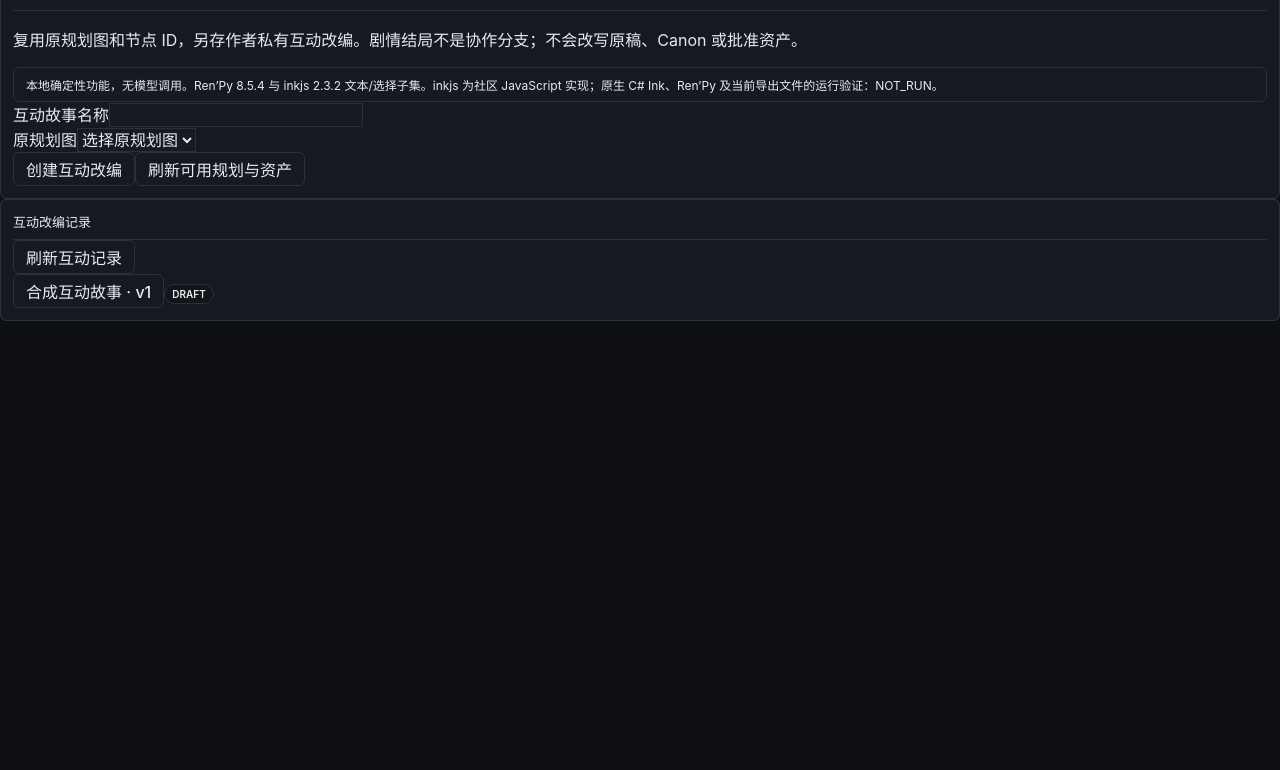
does not retarget a saved issue to a replacement choice with a reused ID before save
The width and height of the screenshot is (1280, 770).
Click the button "合成互动故事 · v1" at (89, 291), box [13,274,164,308]
(page scrolled)
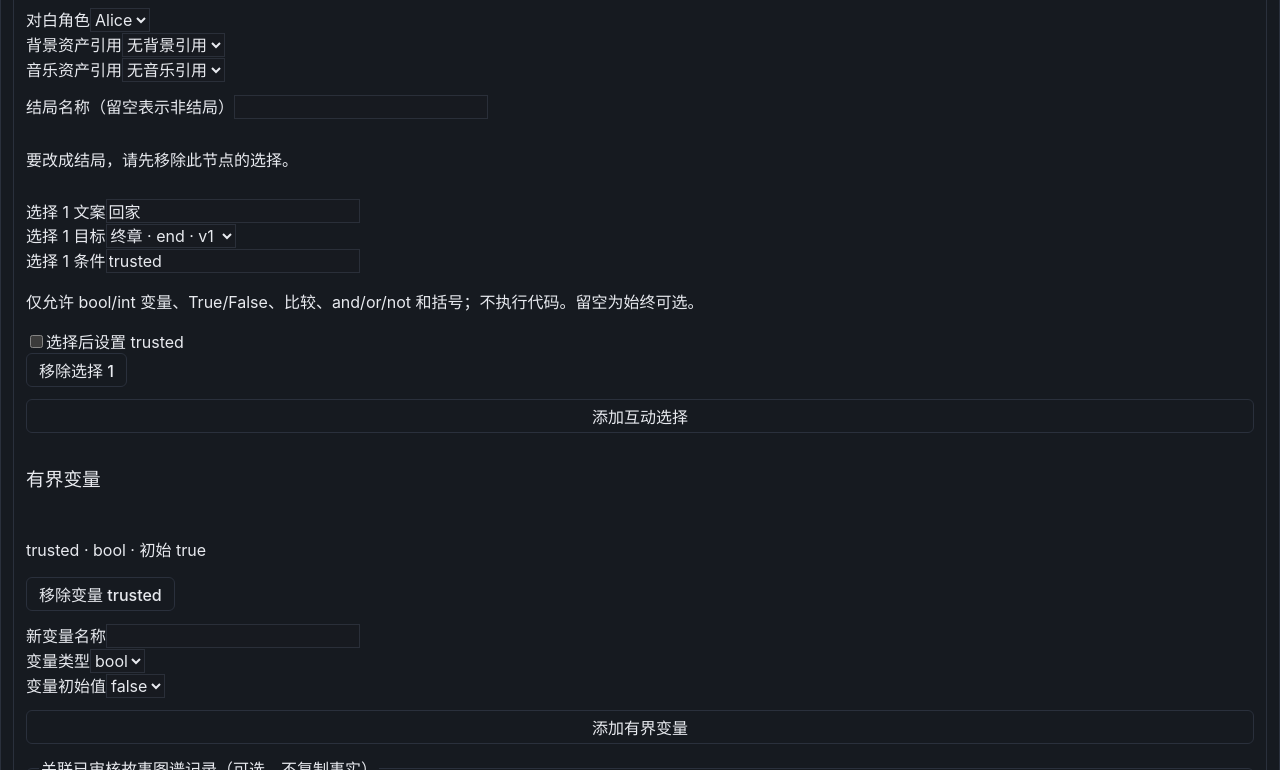
Click the button "移除选择 1" at (76, 370), box [26,353,127,387]
(page scrolled)
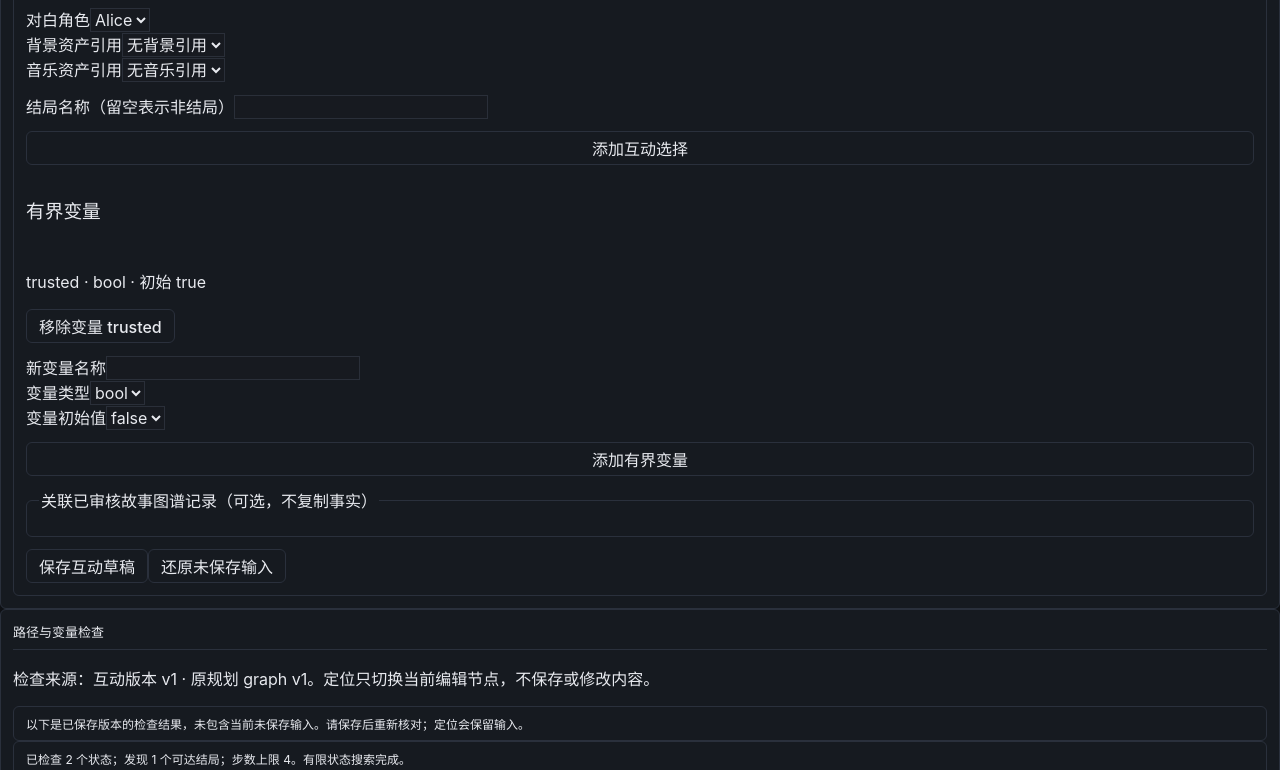
Click the button "添加互动选择" at (640, 148), box [26,131,1254,165]
(page scrolled)
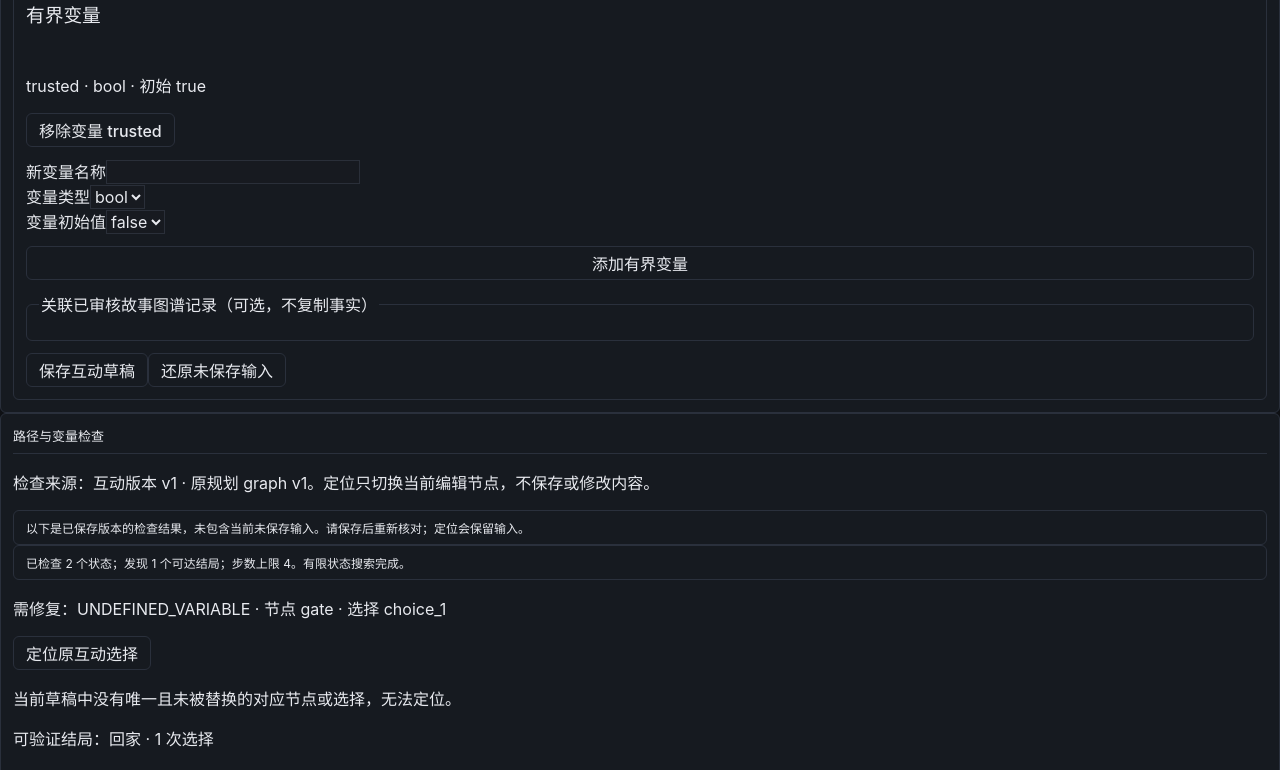
Expected: the button with aria-label "定位 UNDEFINED_VARIABLE 节点 gate 选择 choice_1" is disabled, [13,636,151,670]
Click the button "还原未保存输入" at (217, 370), box [148,353,286,387]
(page scrolled)
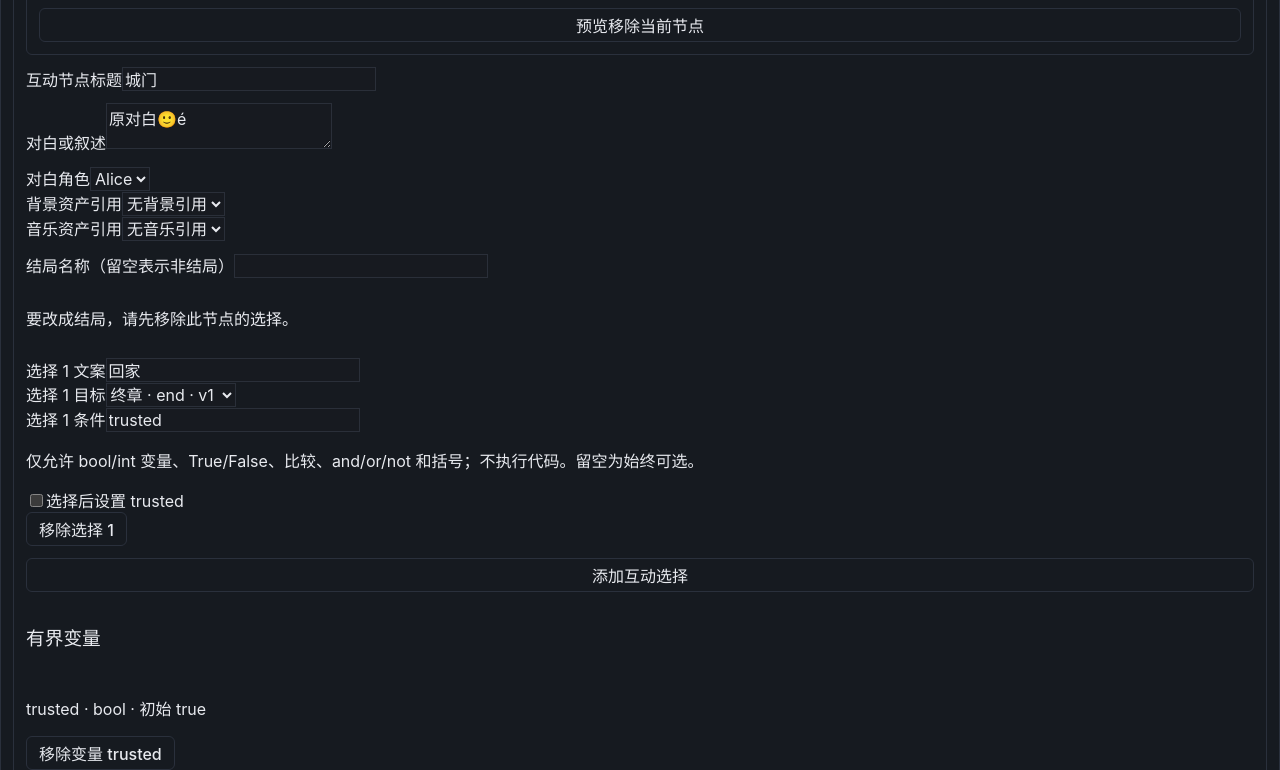
Expected: the field labelled "选择 1 文案" holds "回家", [106,358,360,382]
